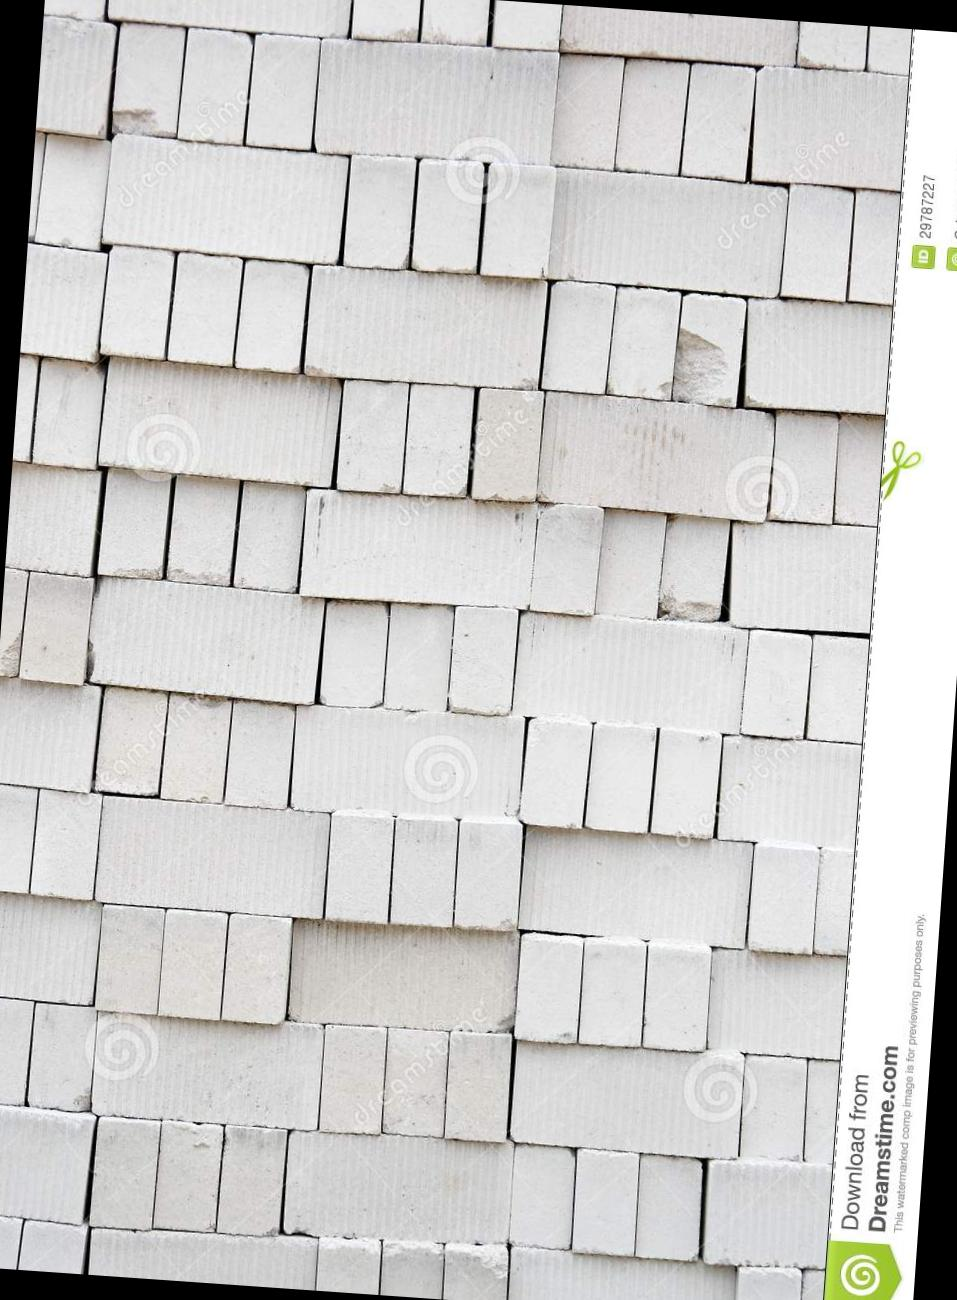brick: (102, 132, 348, 264), (313, 35, 557, 167), (537, 390, 777, 523), (98, 357, 342, 488), (547, 167, 787, 298), (304, 263, 547, 391), (86, 575, 324, 705), (299, 486, 537, 612), (510, 1037, 746, 1161), (512, 611, 748, 735), (291, 700, 525, 825), (95, 796, 329, 920), (517, 826, 752, 948), (284, 1124, 515, 1249), (91, 1008, 323, 1130), (286, 915, 520, 1036), (751, 65, 908, 190), (741, 297, 891, 415), (725, 518, 876, 635), (716, 736, 861, 849), (705, 948, 845, 1060), (89, 1221, 318, 1289), (702, 1155, 832, 1272), (558, 4, 797, 67), (507, 1245, 735, 1300), (0, 1101, 96, 1224), (0, 675, 100, 793), (0, 890, 101, 1004), (4, 460, 102, 577), (19, 242, 107, 362), (36, 15, 117, 140), (107, 0, 351, 38), (480, 161, 556, 279), (34, 135, 111, 250), (178, 26, 252, 144), (540, 280, 616, 395), (681, 63, 755, 181), (245, 33, 319, 151), (780, 183, 854, 301), (615, 58, 688, 175), (606, 287, 681, 400), (550, 53, 624, 170), (99, 245, 174, 359), (234, 259, 309, 373), (343, 152, 415, 270), (110, 22, 184, 136), (336, 378, 409, 494), (19, 572, 93, 685), (412, 157, 484, 274), (471, 387, 543, 503), (532, 501, 605, 615), (169, 254, 242, 365), (674, 293, 746, 407), (167, 474, 239, 586), (233, 480, 306, 592), (446, 604, 519, 716), (89, 1116, 161, 1229), (32, 358, 105, 469), (403, 383, 473, 497), (768, 410, 839, 524), (99, 467, 171, 579), (519, 717, 591, 829), (650, 727, 722, 839), (746, 845, 819, 955), (584, 721, 656, 832), (30, 788, 102, 899), (216, 1125, 287, 1237), (323, 813, 394, 925), (154, 1117, 223, 1232), (159, 693, 231, 803), (453, 820, 524, 931), (95, 688, 168, 795), (221, 914, 291, 1025), (569, 1147, 640, 1256), (596, 510, 665, 620), (741, 628, 811, 738), (319, 1022, 387, 1135), (317, 601, 388, 709), (443, 1031, 512, 1142), (390, 816, 458, 927), (660, 514, 730, 623), (159, 908, 227, 1020), (634, 1154, 705, 1261), (514, 935, 582, 1044), (96, 904, 164, 1014), (225, 702, 295, 808), (641, 946, 711, 1052), (382, 1027, 449, 1136), (28, 1002, 96, 1111), (740, 1055, 809, 1162), (385, 603, 451, 712), (507, 1144, 574, 1251), (579, 941, 646, 1048), (807, 634, 869, 743), (832, 413, 884, 525), (848, 190, 899, 304), (0, 783, 36, 893), (443, 1241, 510, 1300), (316, 1235, 382, 1294), (381, 1239, 444, 1299), (0, 995, 33, 1106), (18, 1220, 87, 1274), (494, 0, 562, 52), (796, 21, 867, 71), (420, 0, 488, 46), (350, 0, 420, 41), (736, 1265, 803, 1300), (865, 25, 912, 74), (43, 0, 107, 21), (0, 1211, 22, 1269)
